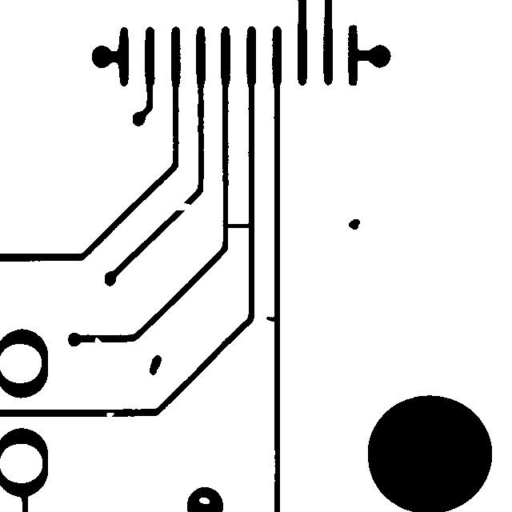copper: (142, 347, 169, 382), (341, 211, 367, 237)
mousebite: (86, 330, 109, 350), (98, 405, 122, 424)
open: (160, 194, 198, 218)
pin-hole: (191, 490, 217, 511)
short: (217, 215, 258, 235)
spur: (258, 309, 284, 330)
